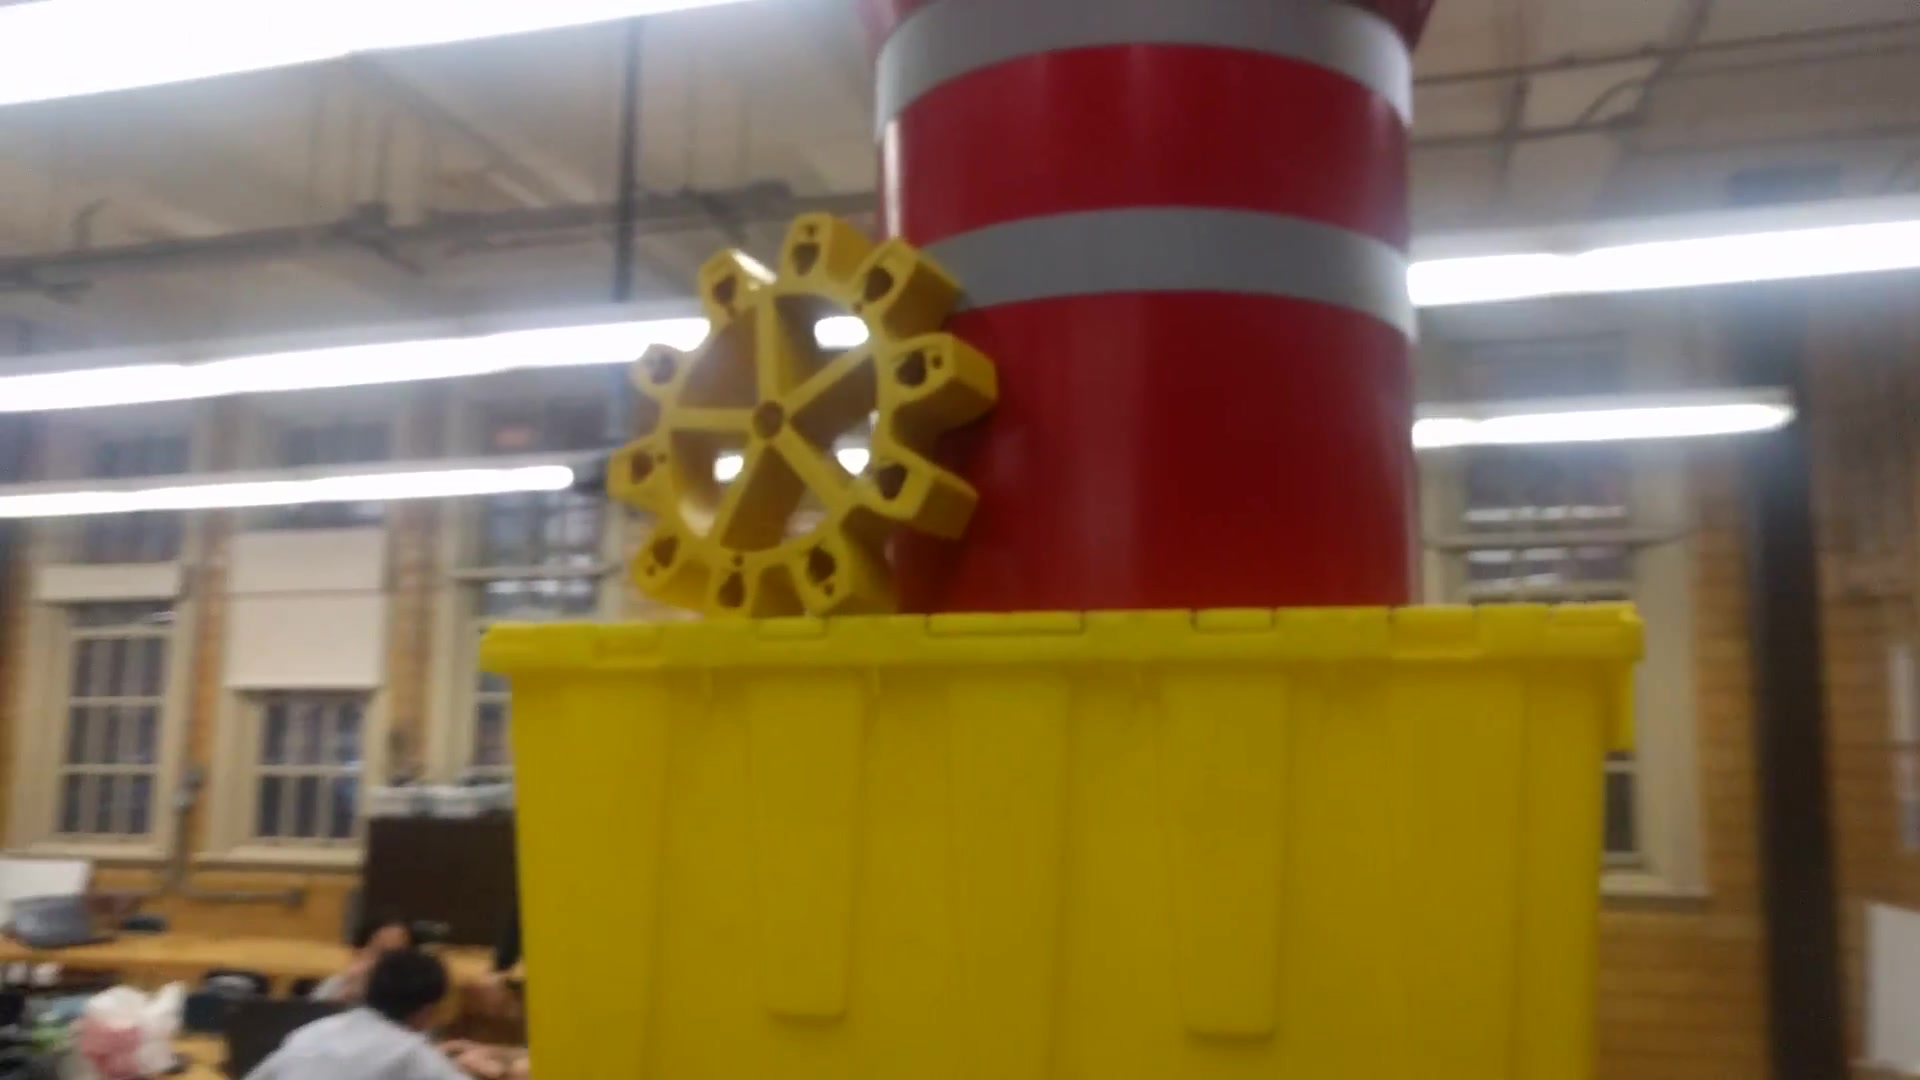gear: (608, 190, 997, 640)
